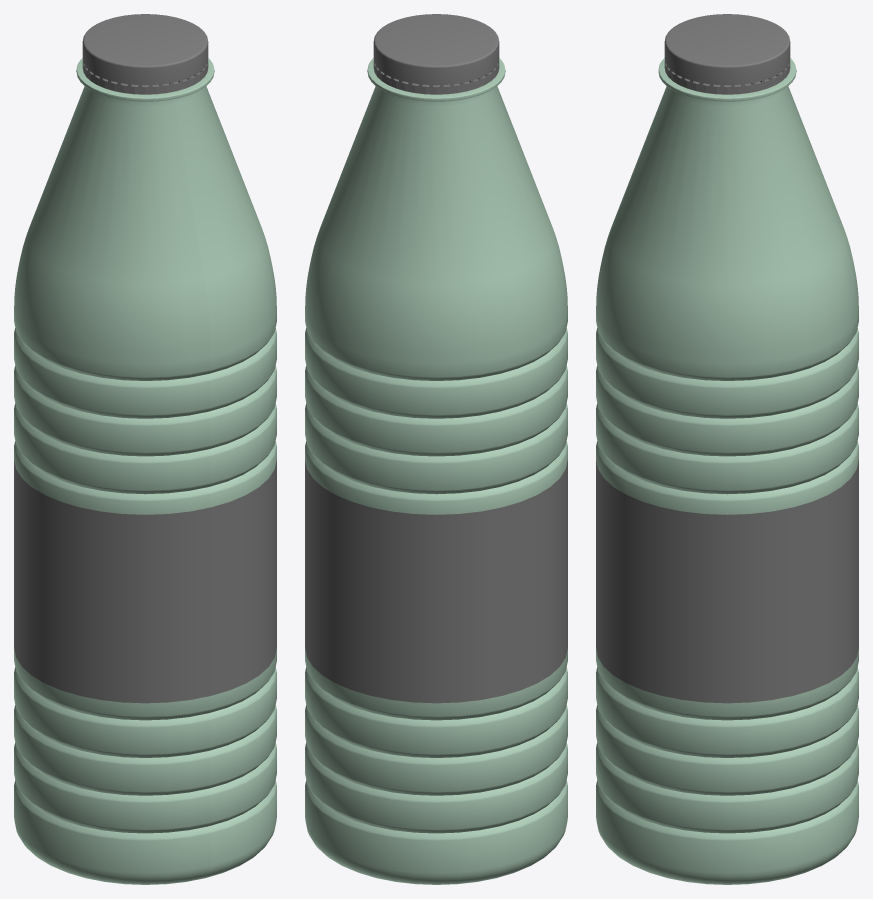
The model's file is bottle_01.FBX.
3 views of the same model, side by side, from view 1: azimuth 30°, elevation 25°; view 2: azimuth 150°, elevation 25°; view 3: azimuth 270°, elevation 25° (orthographic).
Parts seen in each view (by area): view 1: Line001; view 2: Line001; view 3: Line001.
Boxes of the visible parts, x1,y1,x2,y2 form: Line001: (14, 14, 276, 884); Line001: (305, 14, 567, 884); Line001: (596, 14, 858, 884).
Bounding box in the file's own units: 6.32 × 21.13 × 6.32.
